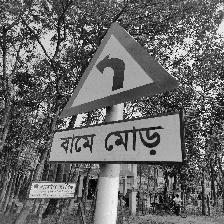Left-Turn: (50, 21, 187, 167)
